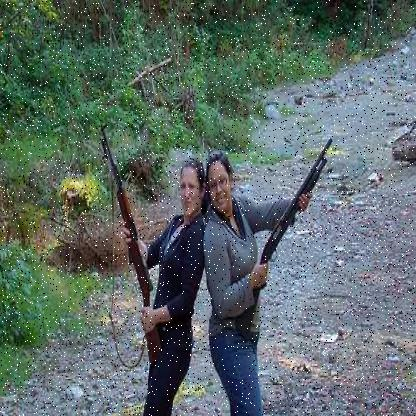rifle: (234, 142, 334, 357)
